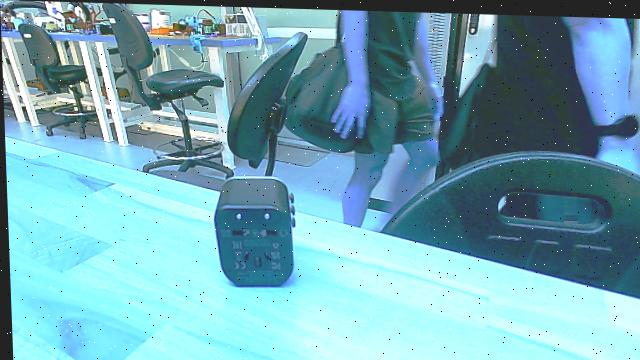adapter: (211, 163, 294, 290)
